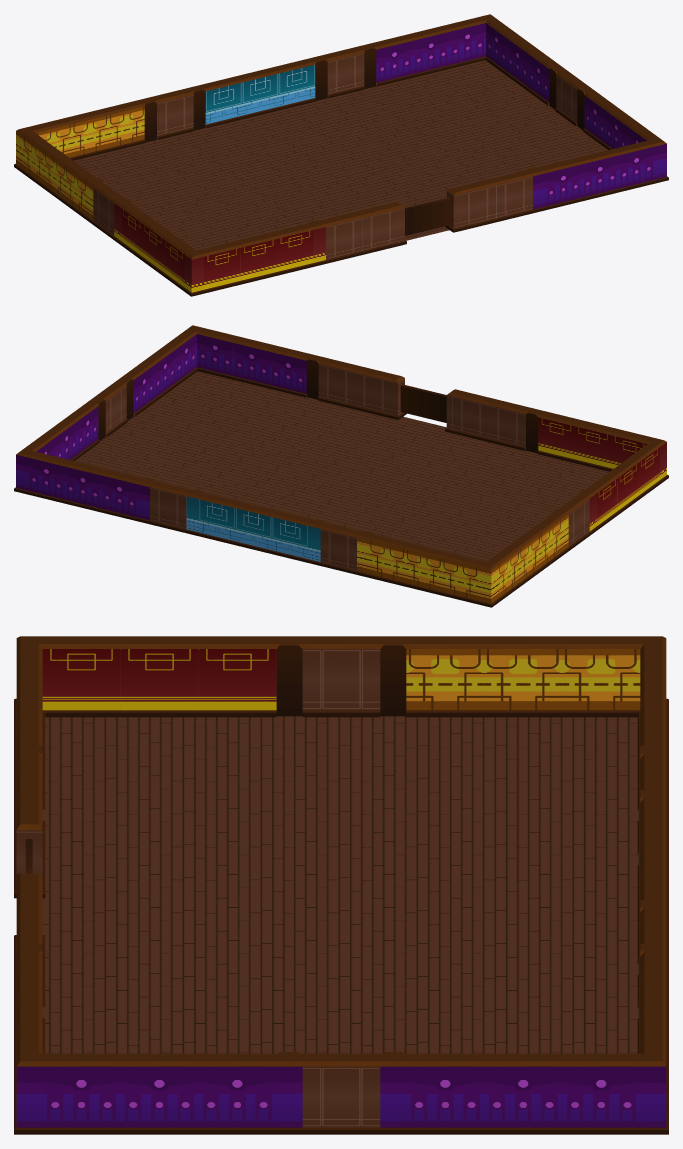
The model's file is s1_Outside.fbx.
3 views of the same model, one above another, from view 1: azimuth 30°, elevation 25°; view 2: azimuth 150°, elevation 25°; view 3: azimuth 270°, elevation 25° (orthographic). The views are drawn at different scales.
Parts seen in each view (by area): view 1: s1_Outside; view 2: s1_Outside; view 3: s1_Outside.
Part boxes in pixels (box(x1,y1,x2,y2)): s1_Outside: box(14, 14, 668, 296); s1_Outside: box(14, 325, 668, 607); s1_Outside: box(14, 636, 668, 1134).
Bounding box in the file's own units: 3920 × 300 × 2520.
